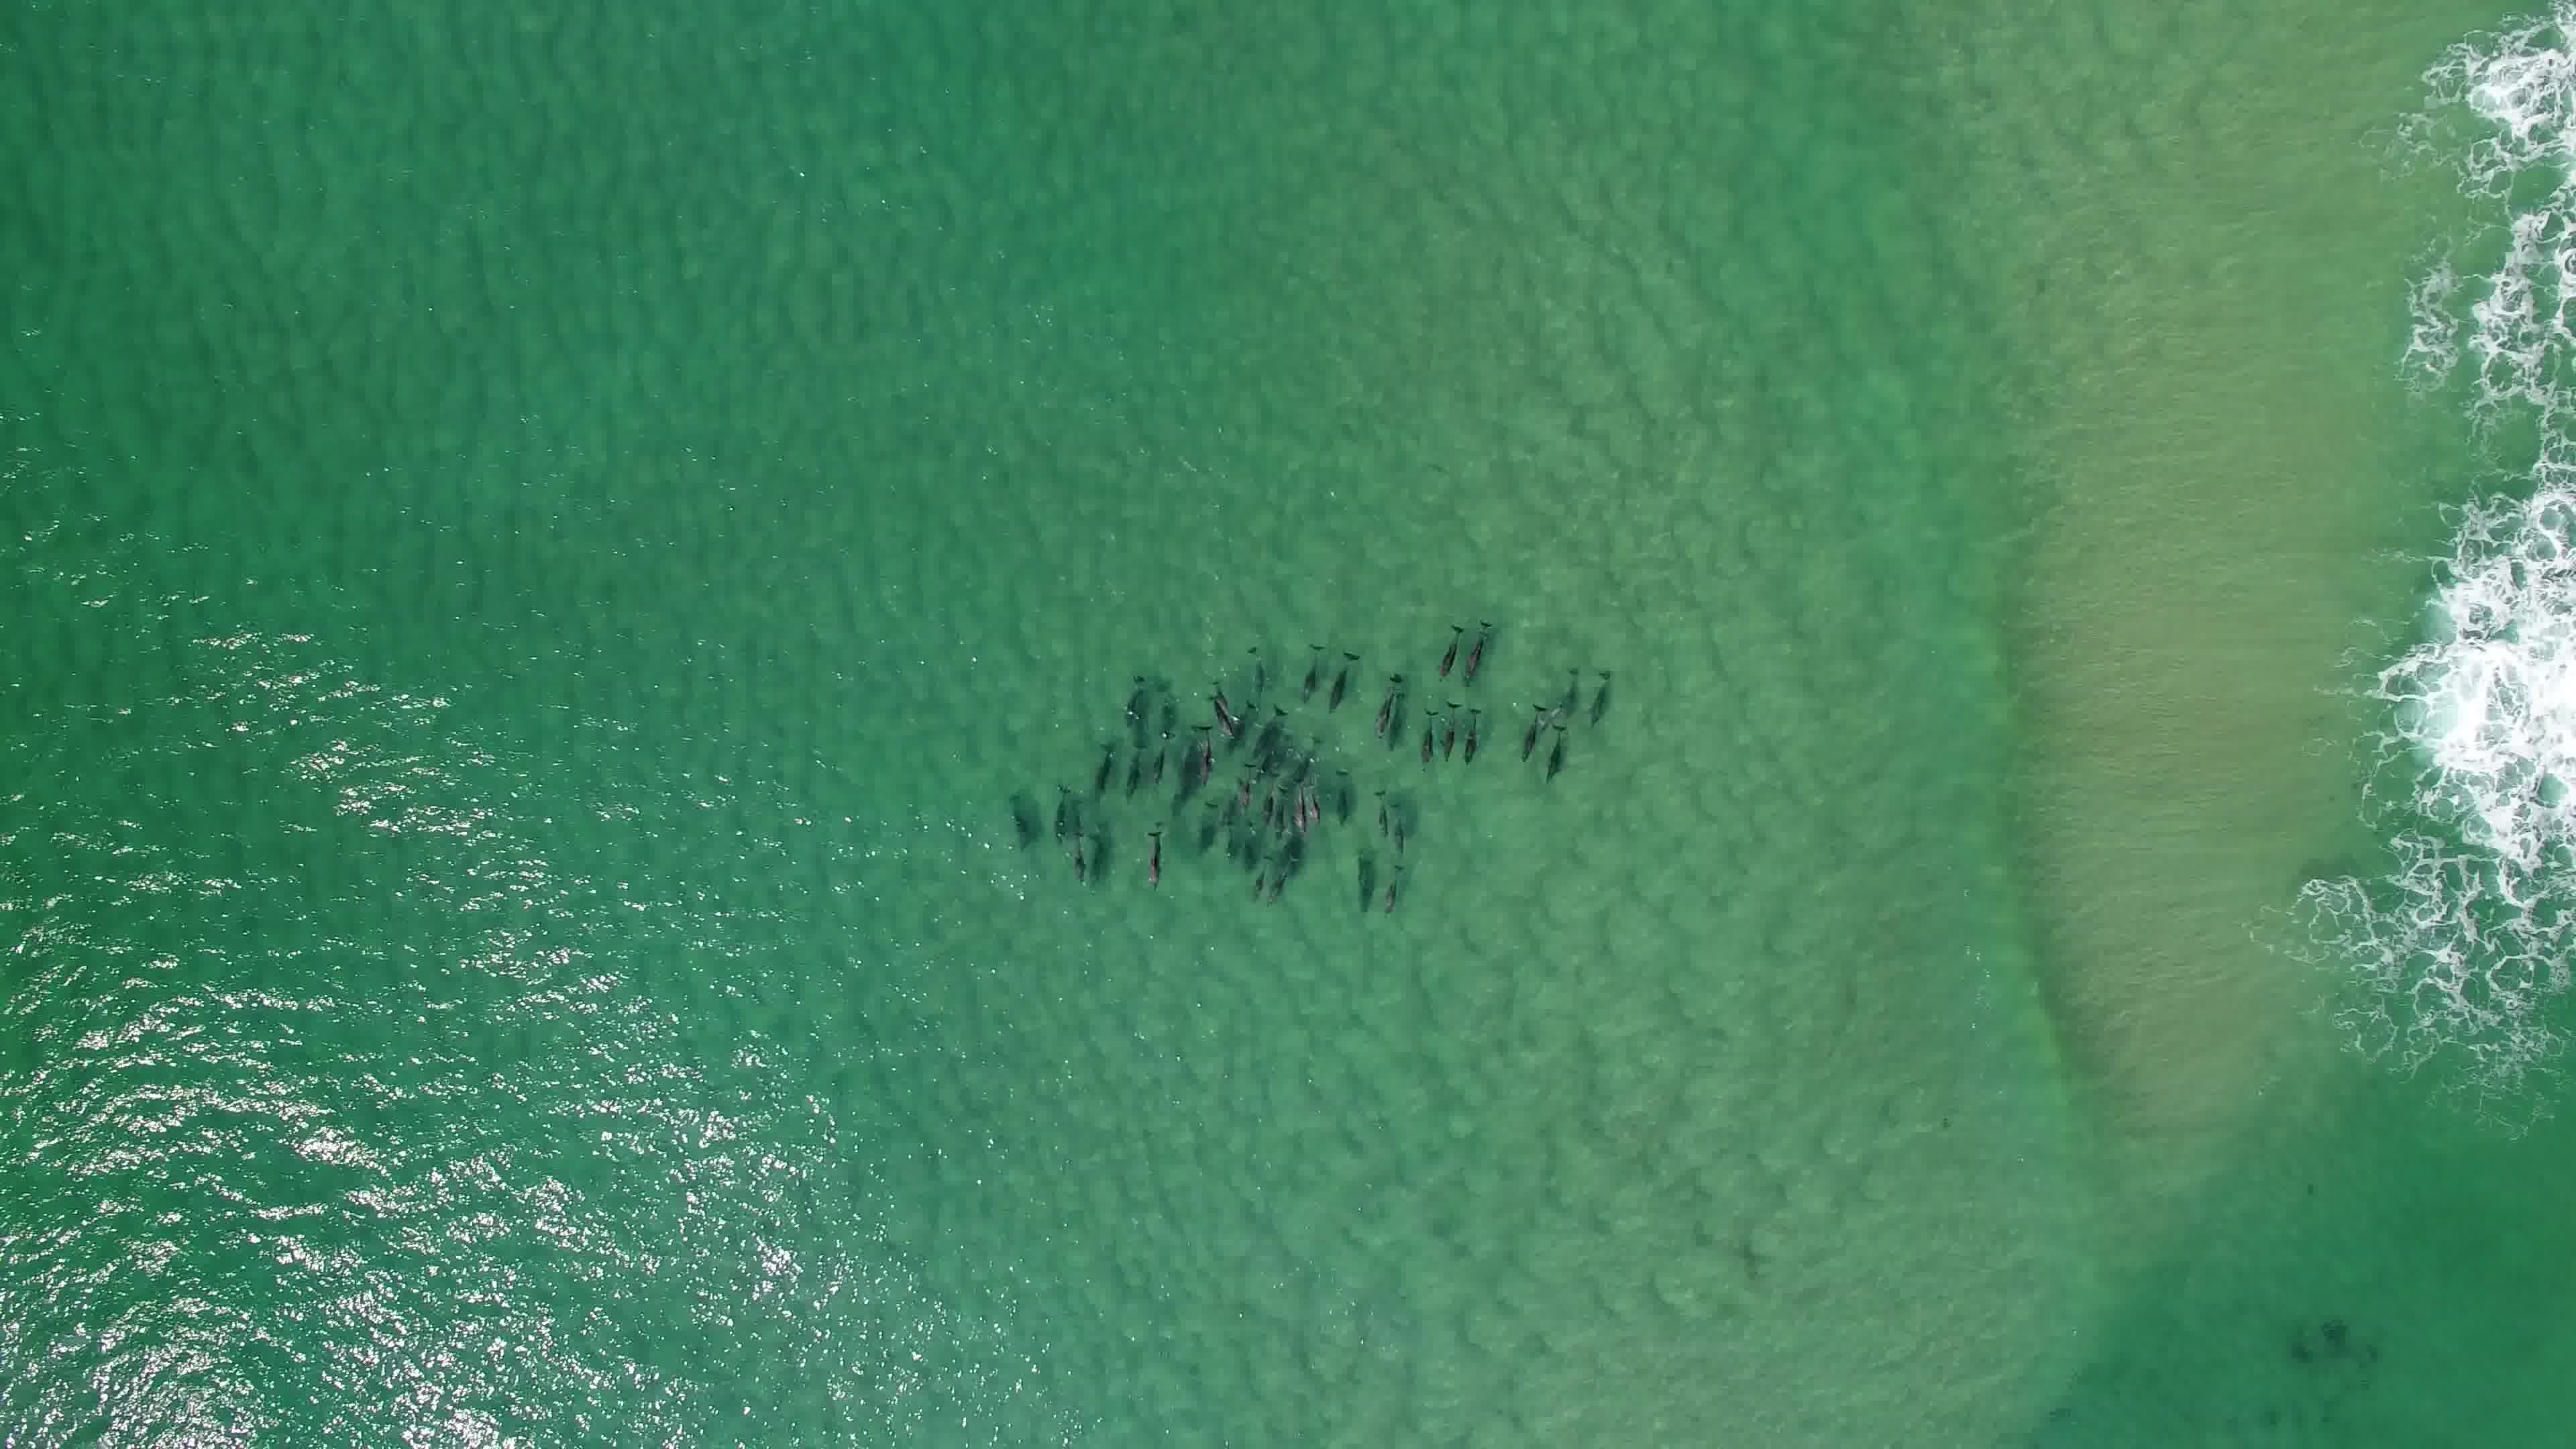dolphin: (1322, 632, 1359, 720), (1132, 817, 1171, 897), (1458, 609, 1495, 692), (1322, 757, 1359, 833), (1426, 614, 1465, 686), (1513, 685, 1546, 766), (1458, 694, 1488, 782), (1247, 697, 1288, 761), (1145, 731, 1189, 789), (1238, 632, 1272, 702), (1369, 663, 1399, 741), (1200, 678, 1238, 738), (998, 784, 1033, 846), (1541, 722, 1569, 794), (1362, 777, 1392, 844), (1414, 697, 1438, 778), (1385, 787, 1414, 858), (1065, 809, 1092, 883), (1191, 724, 1223, 786), (1267, 849, 1302, 904), (1384, 851, 1410, 924), (1297, 633, 1323, 706), (1230, 761, 1263, 816), (1435, 697, 1460, 770), (1093, 736, 1118, 801), (1123, 671, 1150, 725), (1123, 736, 1146, 794), (1304, 770, 1325, 830), (1288, 780, 1309, 837), (1246, 855, 1270, 897)
